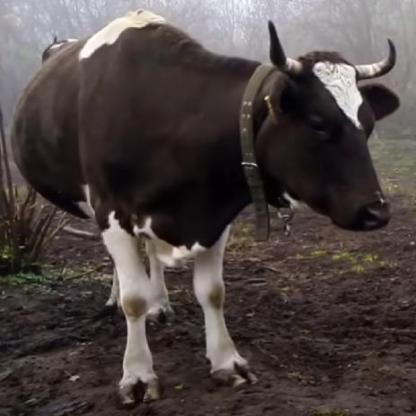cow: (10, 9, 400, 404)
